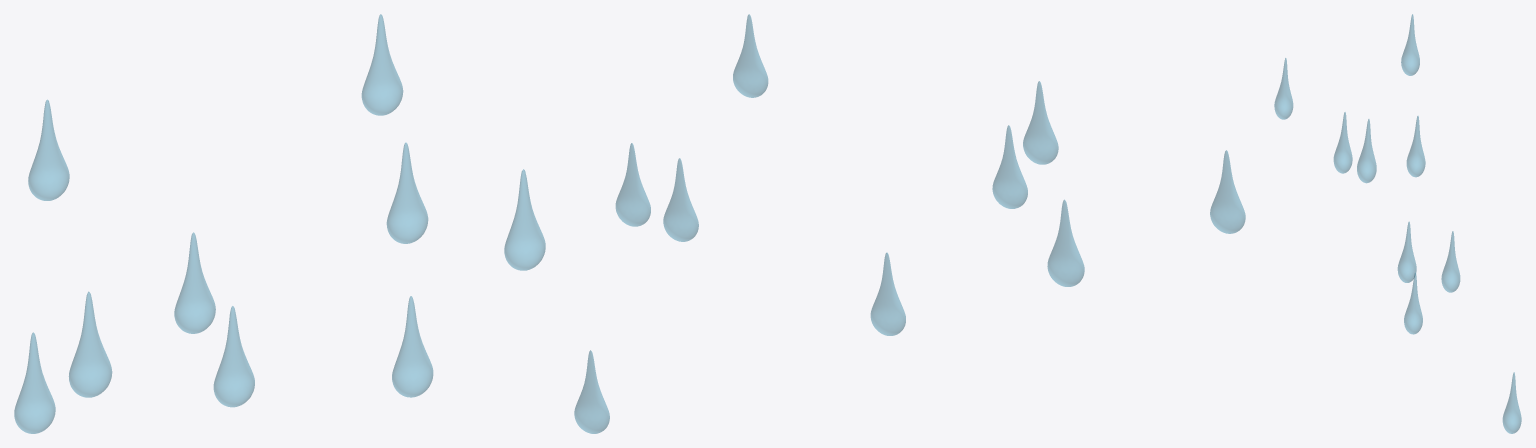
The model's file is raindrops.glb.
3 renders of one model, left to right at view 1: azimuth 30°, elevation 25°; view 2: azimuth 150°, elevation 25°; view 3: azimuth 270°, elevation 25°, orthographic. The views are drawn at different scales.
Visible parts, largest first — view 1: Sphere.21; view 2: Sphere.21; view 3: Sphere.21.
Boxes of the visible parts, x1,y1,x2,y2 form: Sphere.21: (14, 14, 545, 433); Sphere.21: (574, 14, 1245, 433); Sphere.21: (1274, 14, 1521, 433).
Size of the model in its own units: 8.74 by 6.12 by 4.81.
